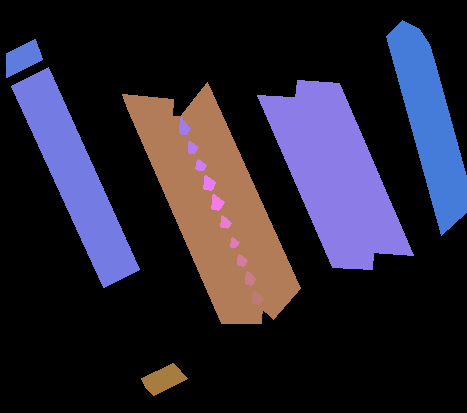parkingspot: (122, 94, 262, 323), (180, 82, 300, 319), (11, 67, 139, 287), (295, 80, 413, 255), (257, 95, 373, 269), (386, 20, 467, 235), (141, 363, 187, 395), (6, 39, 42, 77)
